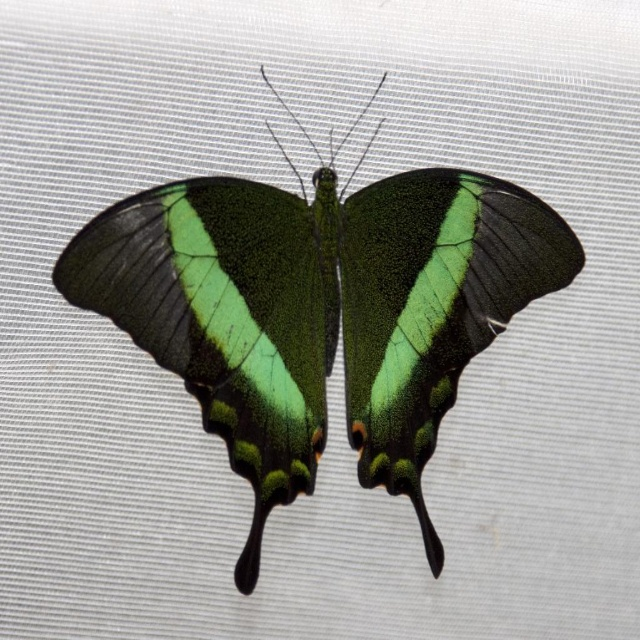Butterfly: (51, 56, 564, 611)
